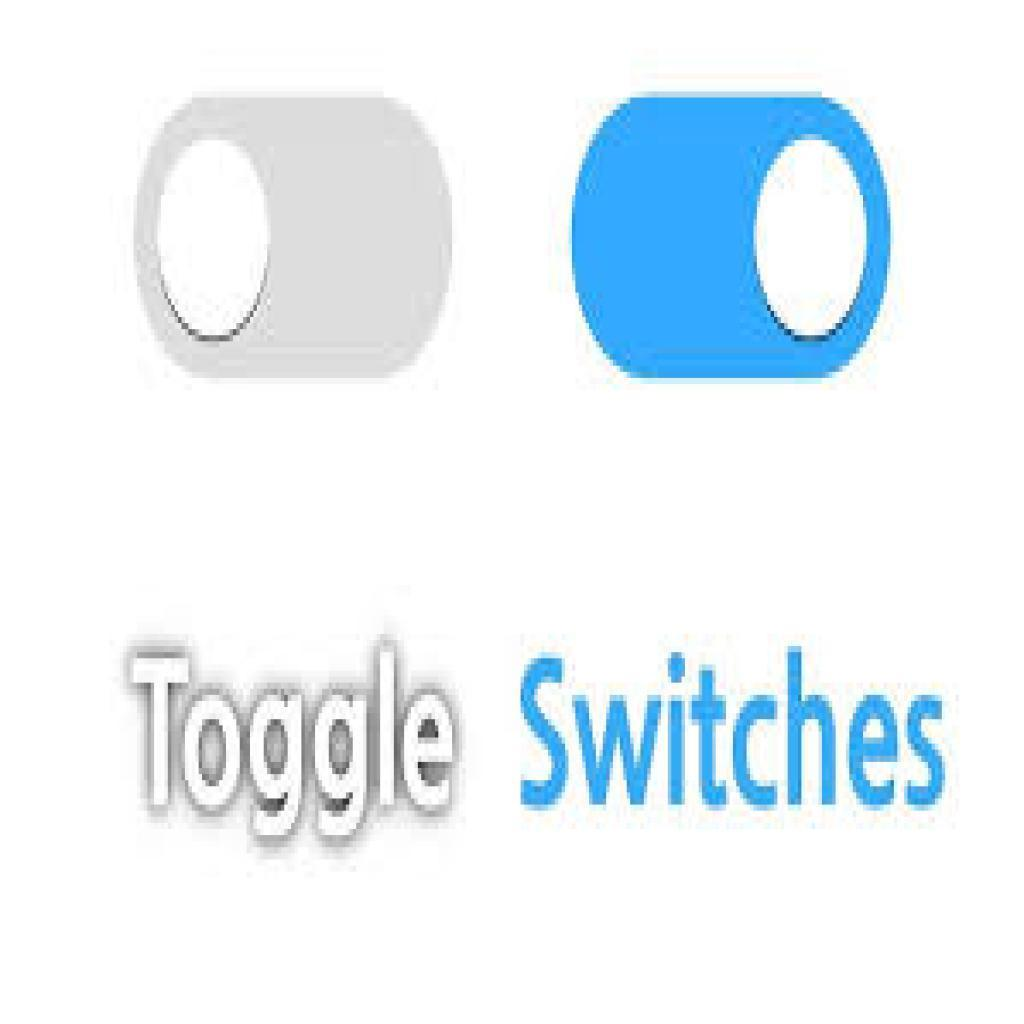switch: (128, 92, 457, 382), (570, 98, 892, 381)
